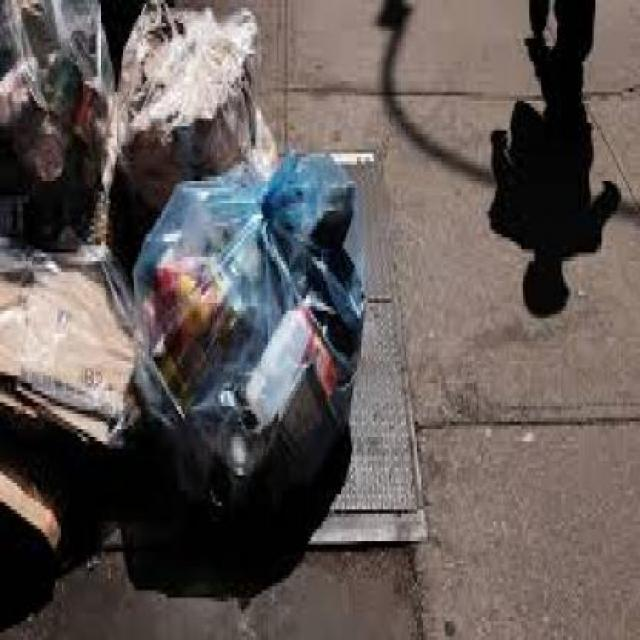garbage: (0, 0, 434, 602)
